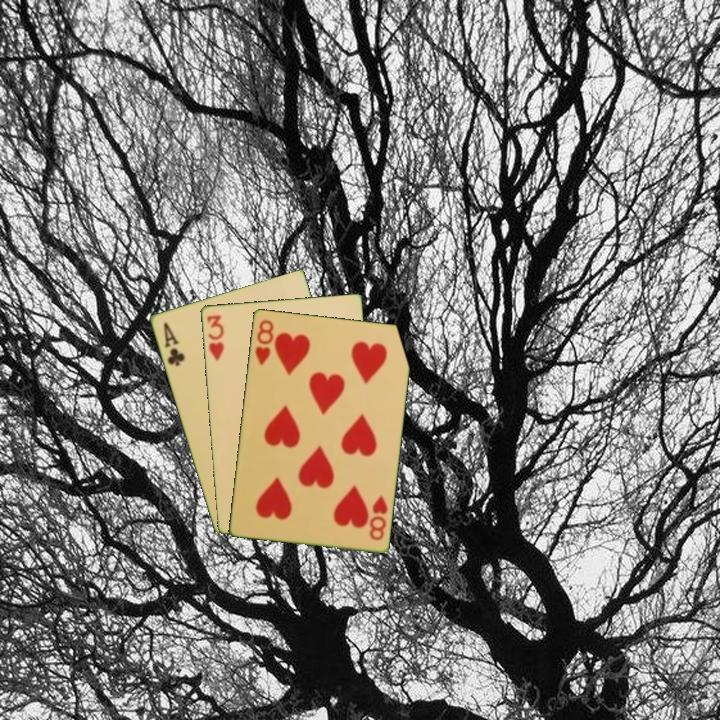3h: (203, 311, 227, 363)
8h: (251, 316, 276, 368), (365, 491, 390, 543)
Ac: (159, 319, 187, 369)
